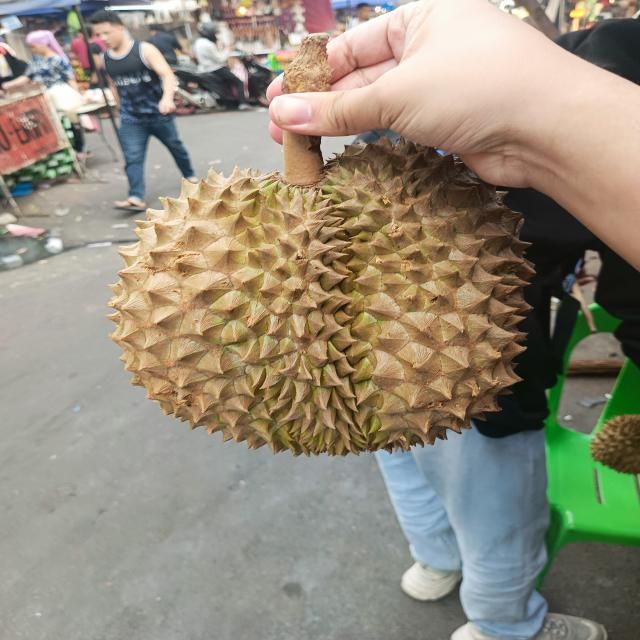mature: (108, 132, 534, 455)
